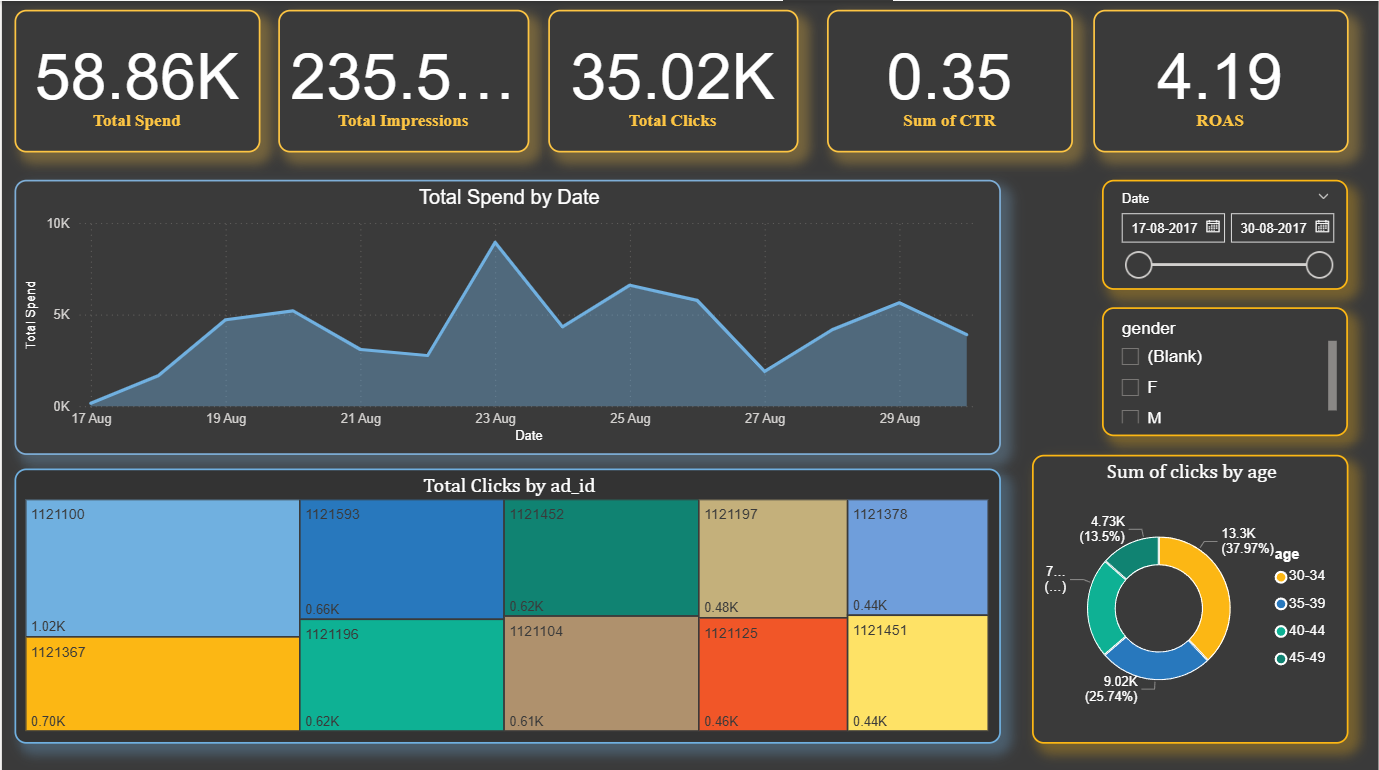

What the dashboard file says about the page in this screenshot:
{"tool":"powerbi","page":{"name":"Executive Summary","canvas":[1280,720],"ordinal":0},"visuals":[{"type":"card","fields":{"Values":["data.Total Spend"]},"box":[11.6,8.1,229.1,132.6],"z":0},{"type":"card","fields":{"Values":["data.Total Impressions"]},"box":[257,8.1,233.7,132.6],"z":1000},{"type":"card","fields":{"Values":["data.Total Clicks"]},"box":[508.1,8.1,232.6,132.6],"z":2000},{"type":"card","fields":{"Values":["Sum(data.CTR)"]},"box":[767.4,8.1,229.1,132.6],"z":3000},{"type":"card","fields":{"Values":["data.ROAS"]},"box":[1015.1,8.1,237.2,132.6],"z":4000},{"type":"lineChart","fields":{"Category":["Date.Date"],"Y":["data.Total Spend"]},"box":[11.6,166.3,917.4,255.8],"z":5000},{"type":"slicer","fields":{"Values":["Date.Date"]},"box":[1023.3,166.3,229.1,102.3],"z":6000},{"type":"slicer","fields":{"Values":["data.gender"]},"box":[1023.3,284.9,229.1,119.8],"z":7000},{"type":"treemap","fields":{"Group":["data.ad_id"],"Values":["data.Total Clicks"]},"box":[11.6,434.9,917.4,255.8],"z":8000},{"type":"donutChart","fields":{"Category":["data.age"],"Y":["Sum(data.clicks)"]},"box":[958.1,422.1,294.2,268.6],"z":9000}]}

Visuals, with their boxes in screenshot pixels (x1, y1, x2, y2), scaled from the page's 1280x720 canvas onto the 1379x770 screenshot:
card - data.Total Spend: box=[12, 9, 259, 150]
card - data.Total Impressions: box=[277, 9, 529, 150]
card - data.Total Clicks: box=[547, 9, 798, 150]
card - Sum(data.CTR): box=[827, 9, 1074, 150]
card - data.ROAS: box=[1094, 9, 1349, 150]
lineChart - Date.Date x data.Total Spend: box=[12, 178, 1001, 451]
slicer - Date.Date: box=[1102, 178, 1349, 287]
slicer - data.gender: box=[1102, 305, 1349, 433]
treemap - data.ad_id x data.Total Clicks: box=[12, 465, 1001, 739]
donutChart - data.age x Sum(data.clicks): box=[1032, 451, 1349, 739]
